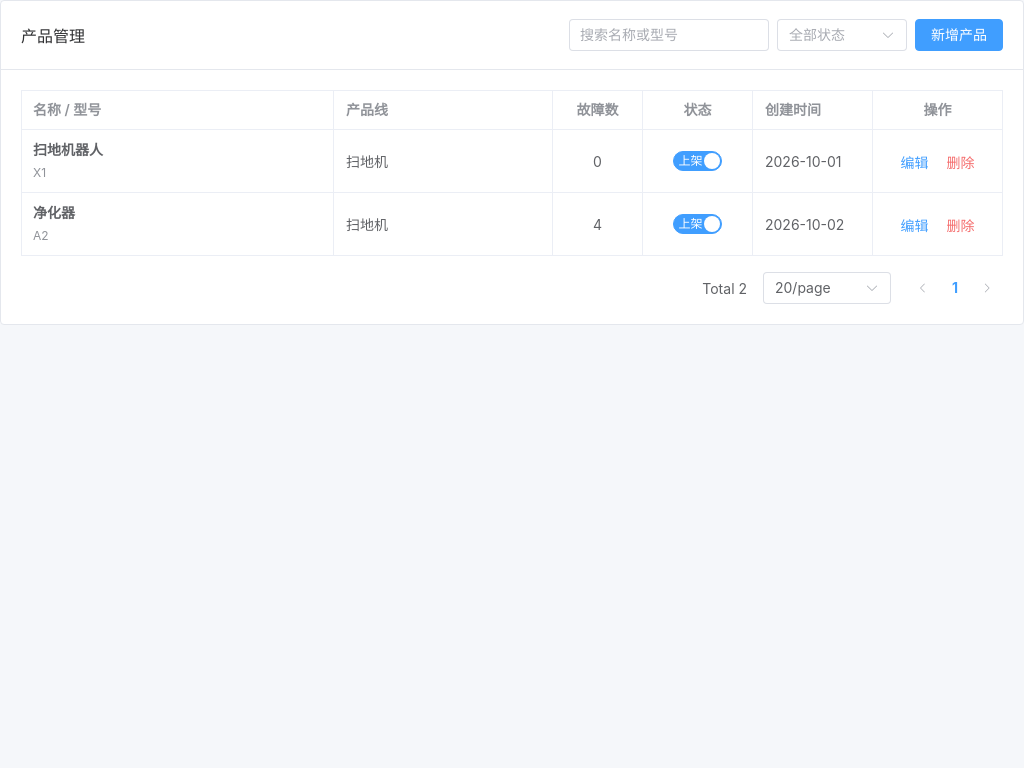
Scenario: ProductList › fault_count > 0 时删除被拦在前端，不发删除请求
Click the button "删除" in the row of "净化器". click: click(960, 226)
box: [944,216,978,236]
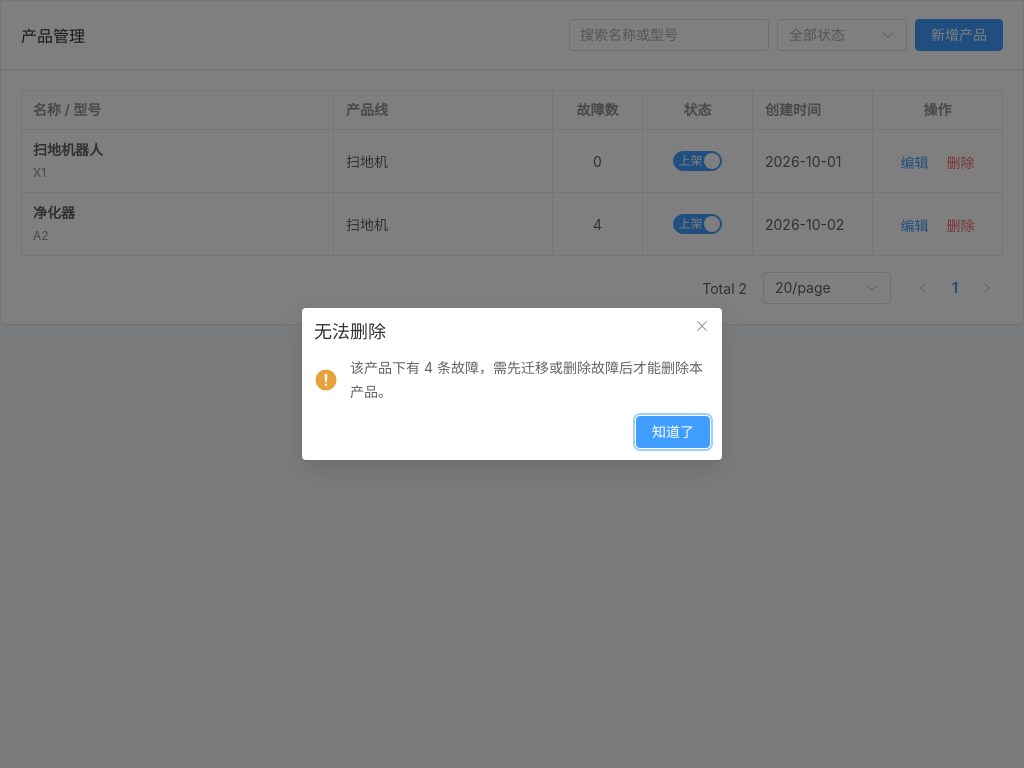
Expected: the text "需先迁移或删除故障" is shown, [350,359,703,400]
